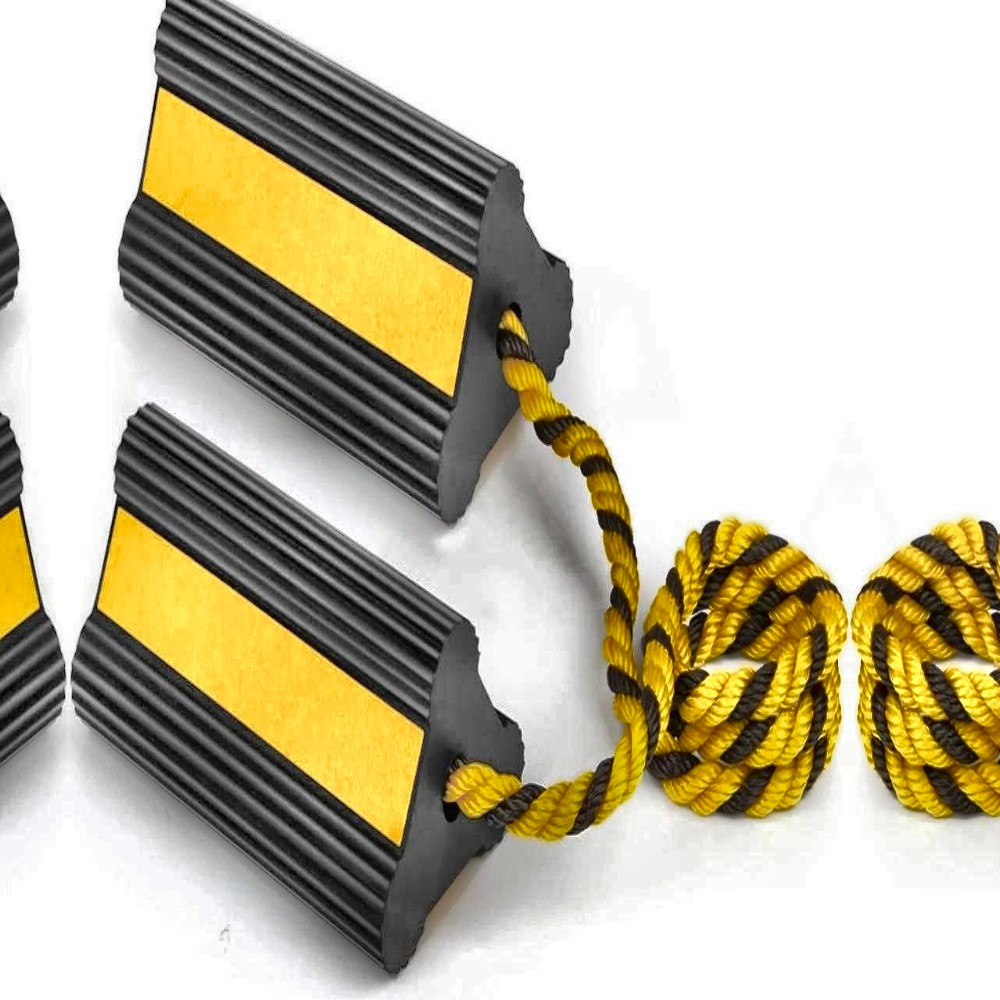chock: (68, 396, 526, 981), (116, 0, 579, 525)
